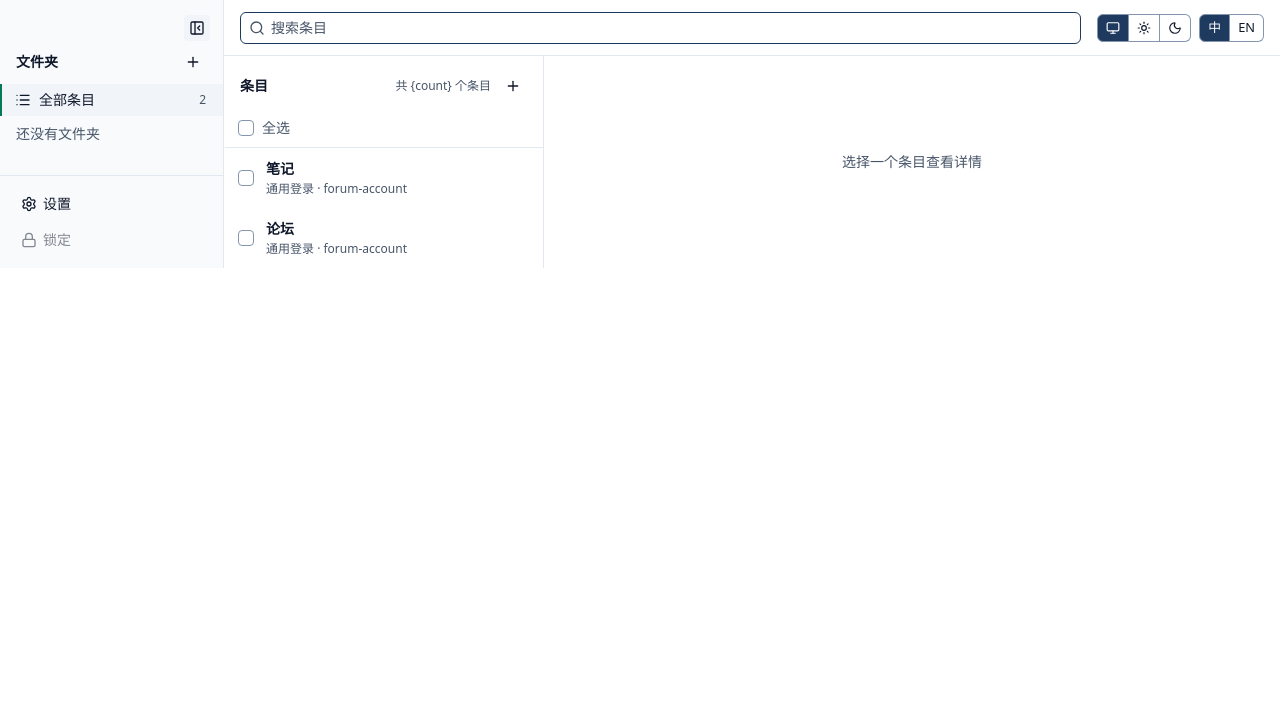
工作区里的 Markdown 备注 › 编辑时把 Markdown 改回纯文本, 详情按原文显示, 重新编辑时仍是纯文本
The width and height of the screenshot is (1280, 720).
Click the button "笔记 通用登录 · forum-account" at {"x": 400, "y": 178}, box [258,148,543,208]
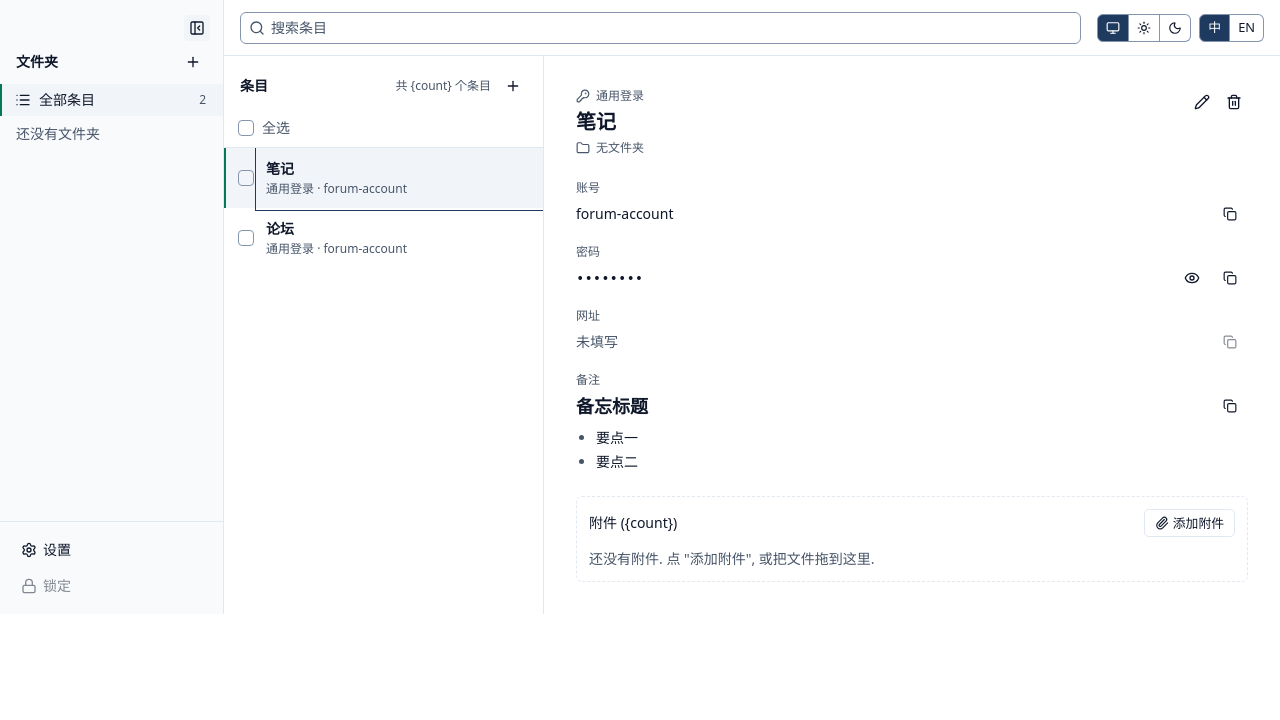
Expected: the heading "笔记" is shown, [576,108,616,135]
Click the button named "编辑条目" at {"x": 1202, "y": 102}, box [1188,88,1216,116]
(page scrolled)
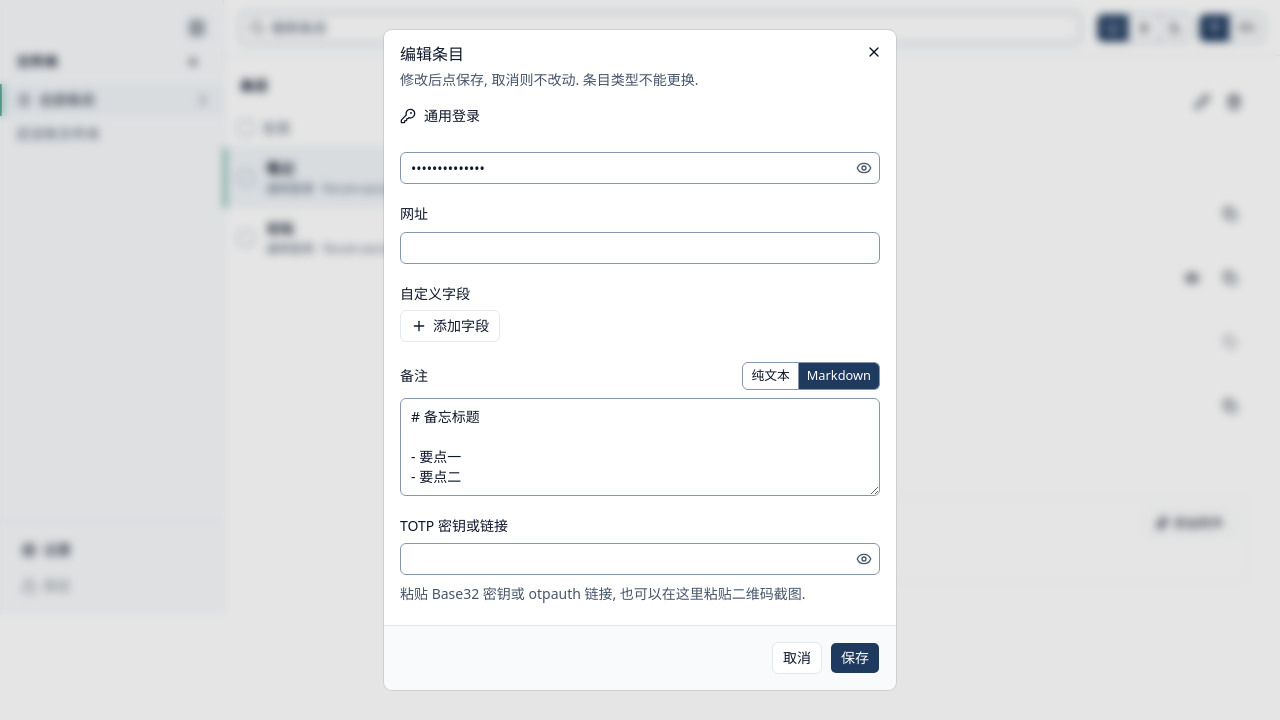
Click the button "纯文本" at {"x": 771, "y": 376}, box [742,362,799,390]
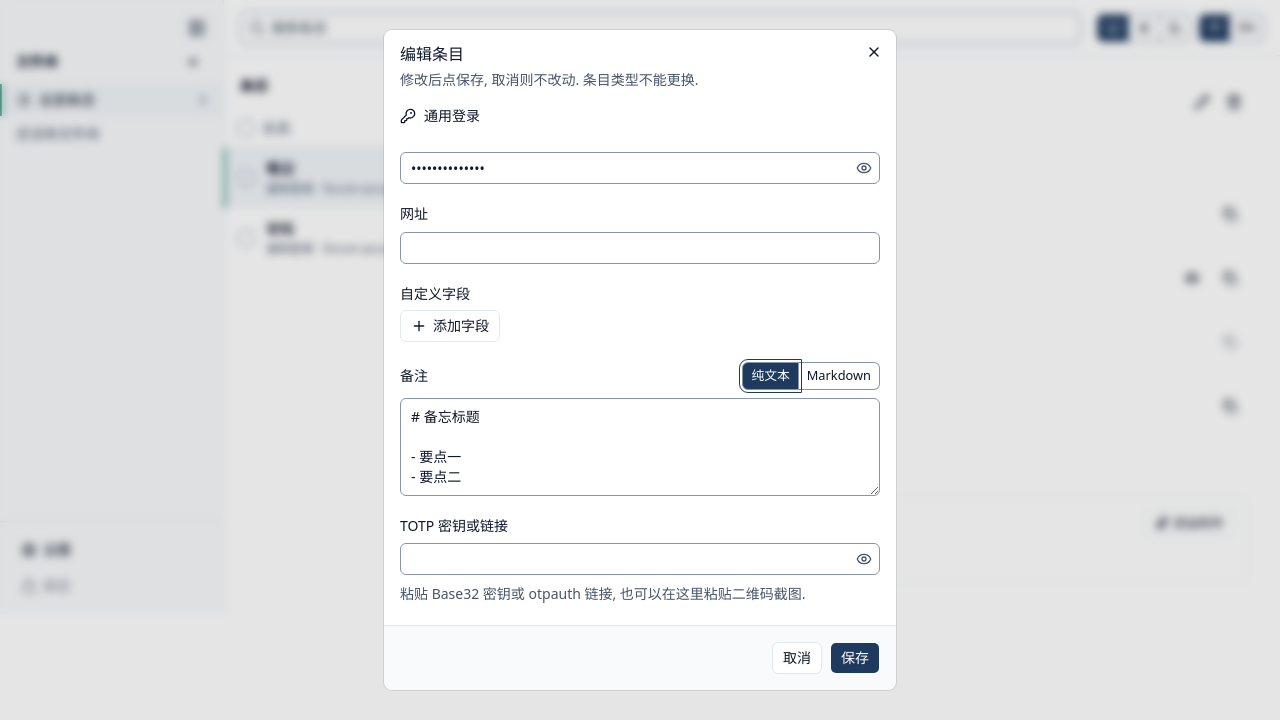
Click the button "保存" at {"x": 855, "y": 658}, box [830,642,880,674]
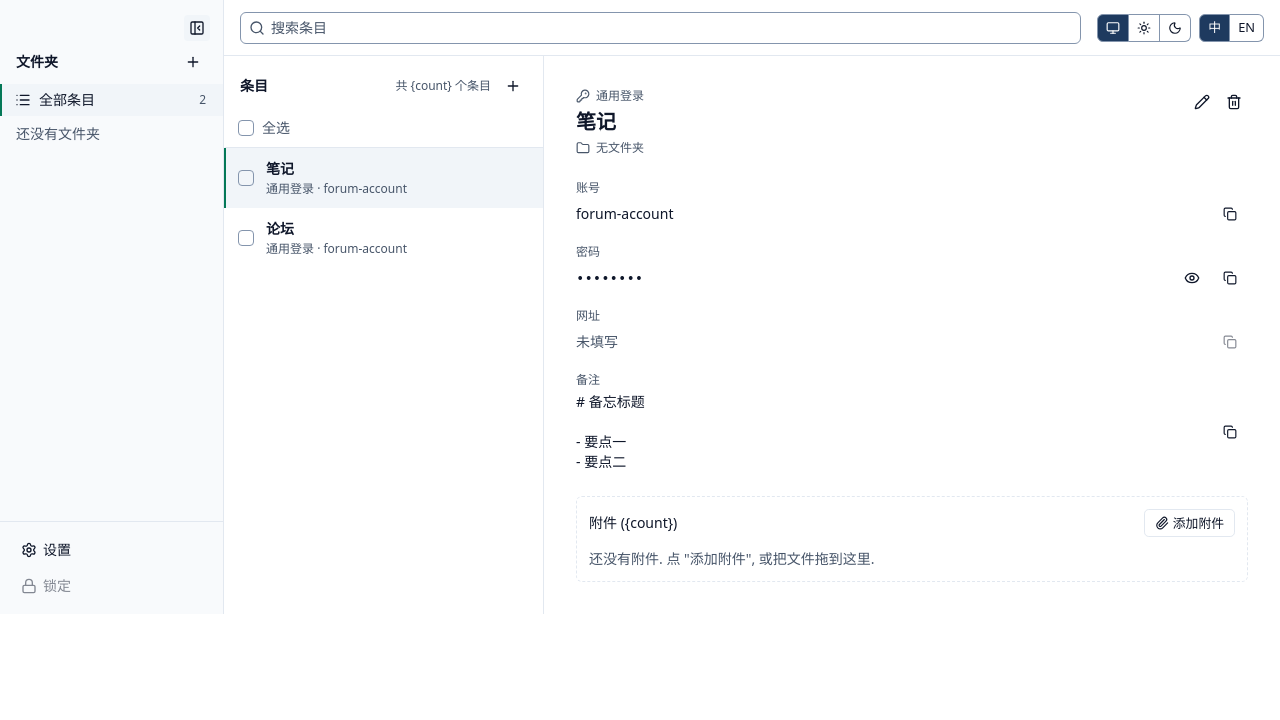
Expected: the text "# 备忘标题 - 要点一 - 要点二" is shown, [576,392,645,471]
Click the button named "编辑条目" at {"x": 1202, "y": 102}, box [1188,88,1216,116]
(page scrolled)
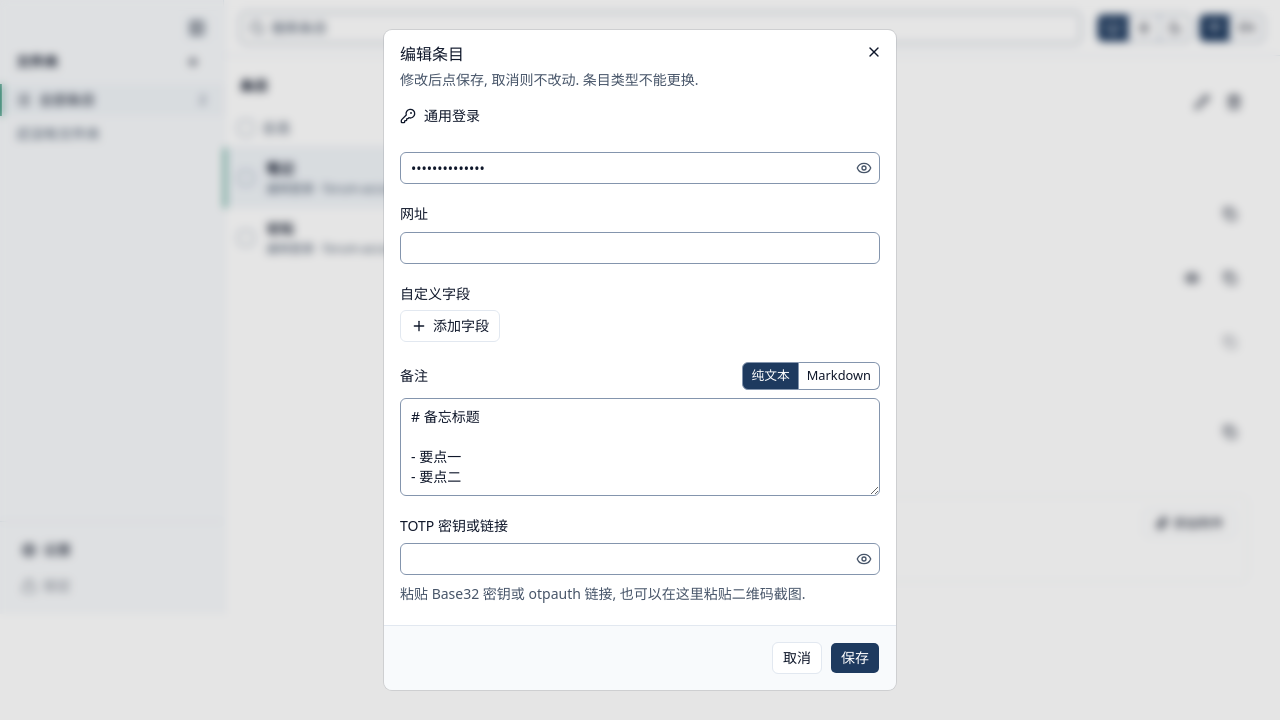
Expected: the dialog "编辑条目" is shown, [384,30,896,690]
